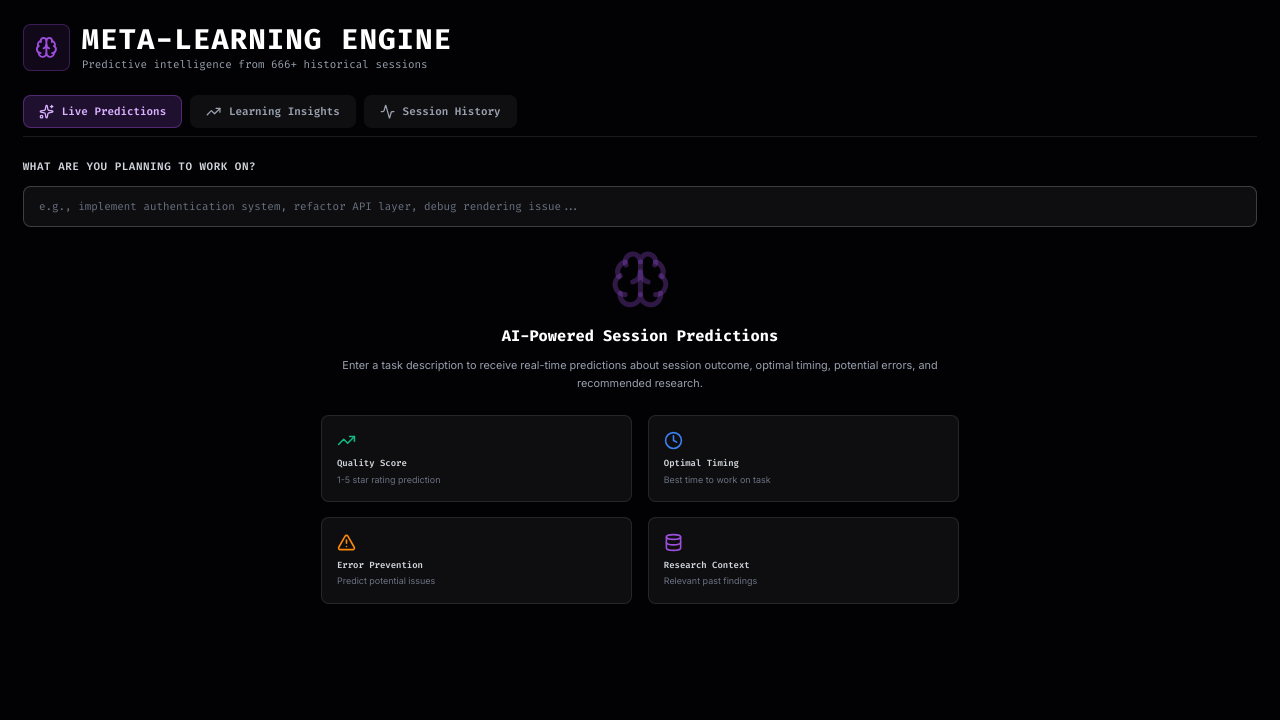
Test: MetaLearningDashboard › switches to history view and shows placeholder
Step 1. Click the button "Session History" → (440, 112), box x1=364 y1=95 x2=517 y2=128
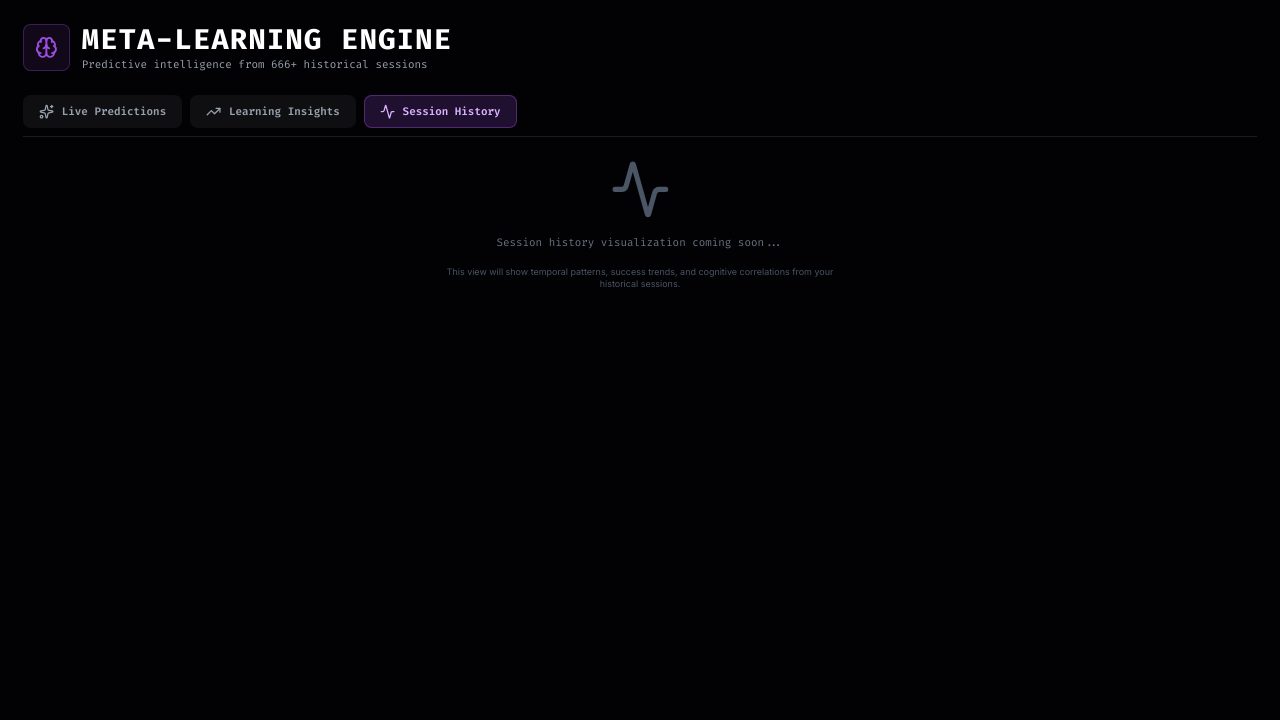
Now the text "Session history visualization coming soon..." is shown, box x1=496 y1=235 x2=784 y2=250
